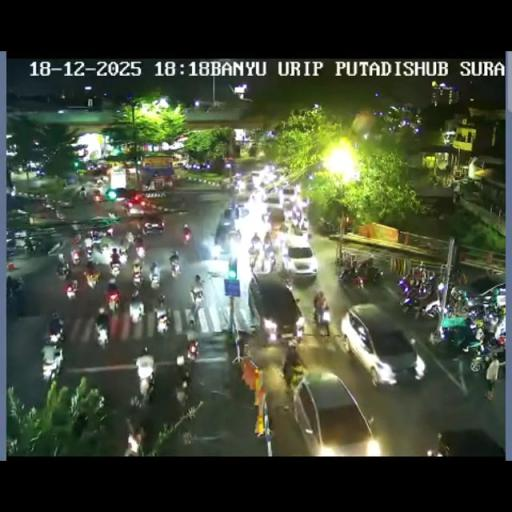Car: (290, 371, 378, 455), (342, 303, 426, 385), (246, 272, 304, 346), (191, 333, 234, 398), (214, 205, 246, 252), (284, 234, 318, 278), (122, 192, 161, 216), (103, 186, 128, 204), (142, 216, 165, 235), (280, 186, 298, 207), (264, 190, 282, 207), (235, 182, 251, 201), (250, 170, 262, 186)
Motorcycle: (80, 288, 189, 347), (118, 340, 192, 411), (61, 228, 117, 277), (398, 270, 441, 316), (465, 330, 505, 372), (449, 334, 470, 394), (464, 297, 502, 328), (41, 341, 64, 380), (282, 348, 304, 386), (234, 328, 253, 365), (424, 431, 449, 456), (32, 233, 60, 255), (124, 420, 142, 454), (70, 409, 89, 441), (359, 262, 384, 286), (313, 304, 332, 334), (450, 286, 469, 316), (174, 374, 190, 408), (44, 318, 63, 346), (136, 371, 152, 402), (290, 208, 308, 233), (94, 323, 110, 350), (154, 310, 170, 336), (6, 274, 23, 298), (262, 318, 278, 342), (84, 264, 100, 286), (261, 249, 275, 273), (318, 218, 338, 234), (294, 314, 306, 340), (190, 287, 204, 309), (411, 262, 425, 284), (278, 271, 294, 290), (65, 278, 78, 301), (131, 262, 143, 286), (110, 250, 122, 274), (185, 308, 197, 331), (186, 338, 198, 361), (251, 187, 266, 205), (248, 246, 260, 268), (107, 294, 120, 314), (56, 262, 70, 280), (122, 230, 135, 249), (454, 268, 467, 287), (149, 264, 160, 286), (169, 258, 181, 276), (70, 248, 82, 266), (83, 236, 94, 255), (56, 197, 74, 208), (210, 243, 221, 260), (130, 284, 140, 302), (134, 238, 144, 256), (25, 237, 35, 254), (89, 228, 101, 242), (54, 206, 66, 220), (99, 238, 110, 253), (193, 274, 203, 290), (223, 208, 234, 222), (182, 229, 192, 244), (263, 230, 272, 246), (233, 202, 242, 218), (71, 232, 81, 246), (78, 186, 88, 200), (157, 292, 166, 307), (261, 209, 270, 223), (175, 354, 185, 366), (107, 211, 117, 221), (106, 226, 114, 238), (57, 251, 65, 263), (96, 175, 104, 186), (92, 192, 100, 202)
